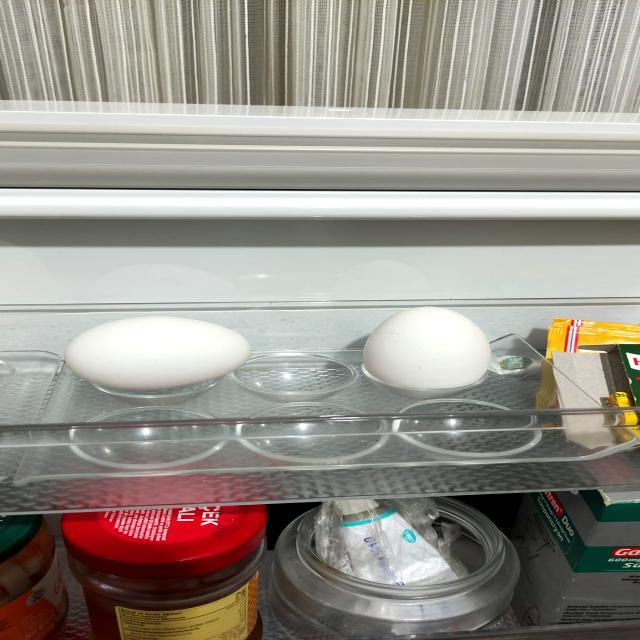egg: (48, 303, 257, 399), (340, 297, 520, 401)
